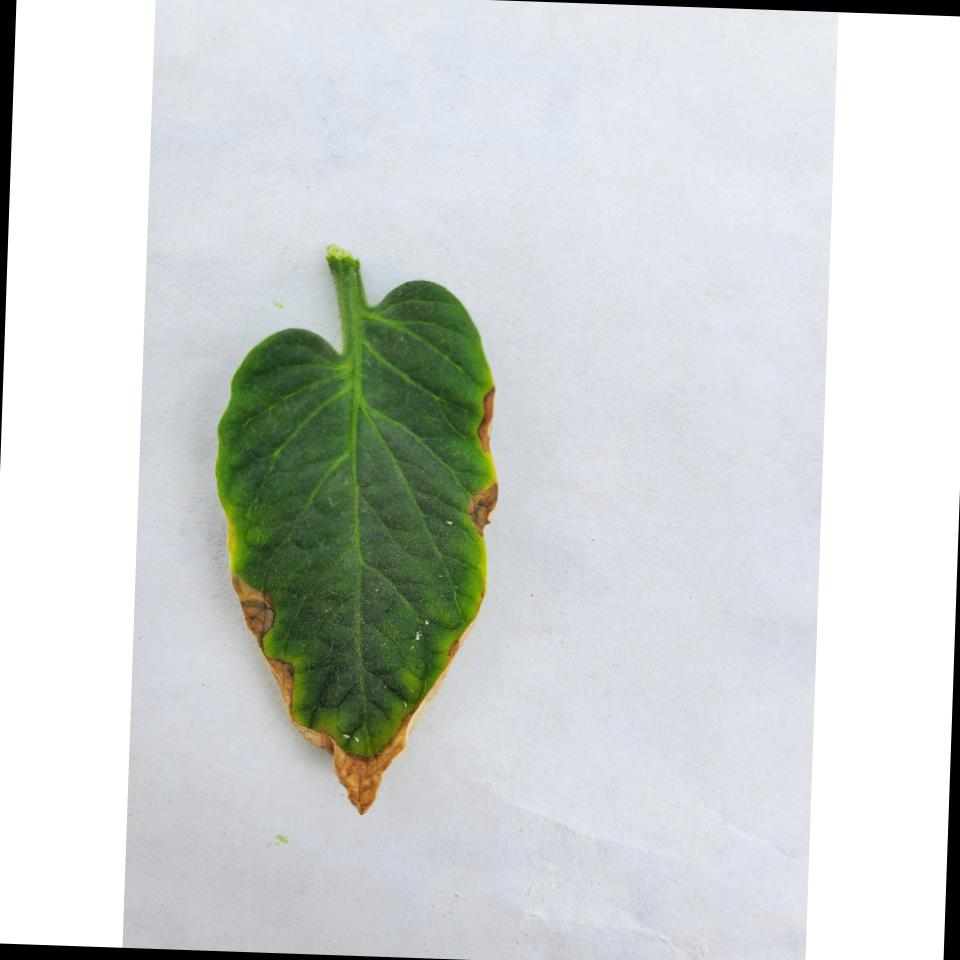tomato_bacterial_blight: (203, 252, 507, 824)
